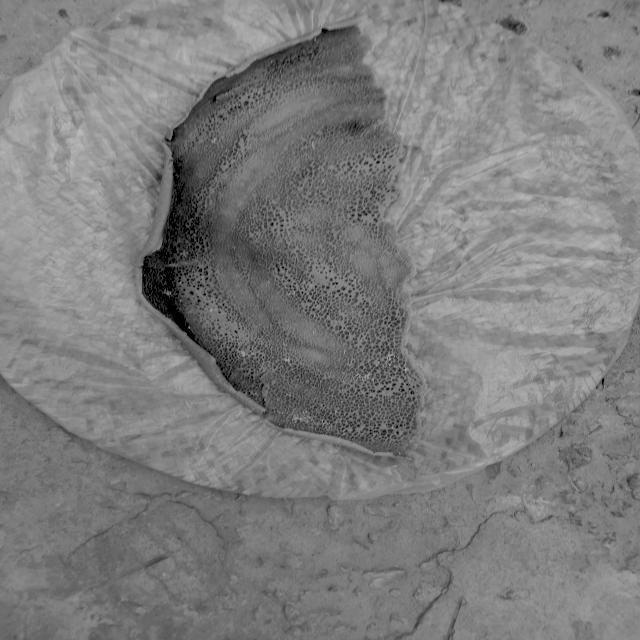injera_mold: (292, 409, 326, 426), (343, 429, 365, 438), (352, 372, 373, 381), (392, 424, 404, 437), (260, 361, 272, 373), (179, 248, 191, 260), (300, 282, 312, 292), (385, 352, 396, 361), (236, 349, 246, 357), (162, 289, 172, 296), (264, 421, 274, 428), (320, 404, 328, 412), (304, 426, 314, 432), (286, 291, 296, 297), (324, 425, 332, 432), (403, 366, 410, 373), (210, 137, 217, 144), (268, 406, 276, 412), (256, 338, 264, 344), (264, 281, 271, 287), (284, 358, 291, 364), (286, 393, 292, 399), (209, 308, 217, 312), (282, 343, 288, 347)
